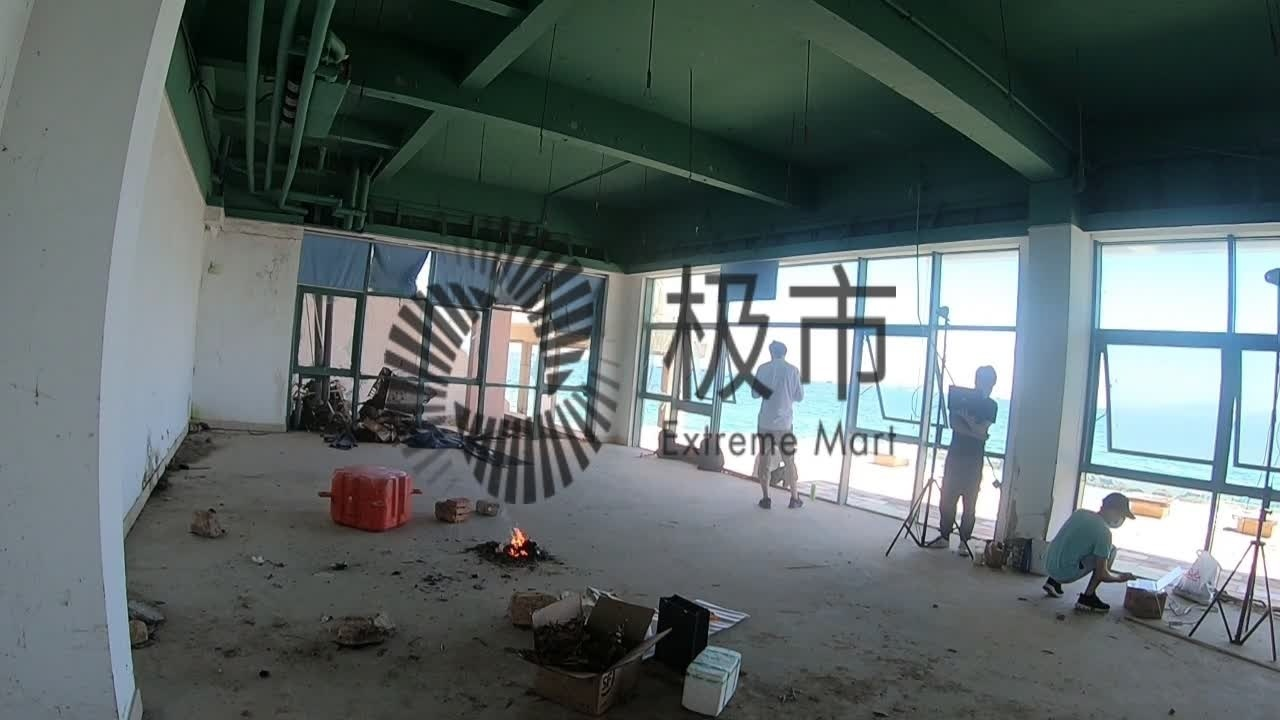fire: (500, 522, 534, 561)
